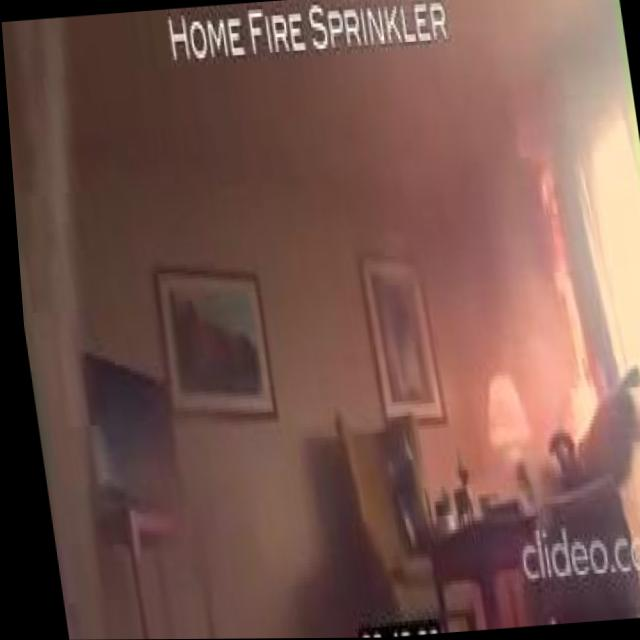fire: (513, 155, 598, 445)
